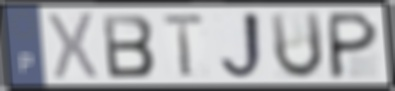B: (100, 12, 158, 80)
J: (217, 9, 269, 83)
P: (326, 9, 381, 82)
T: (161, 12, 207, 80)
U: (267, 10, 326, 82)
X: (46, 10, 100, 83)
